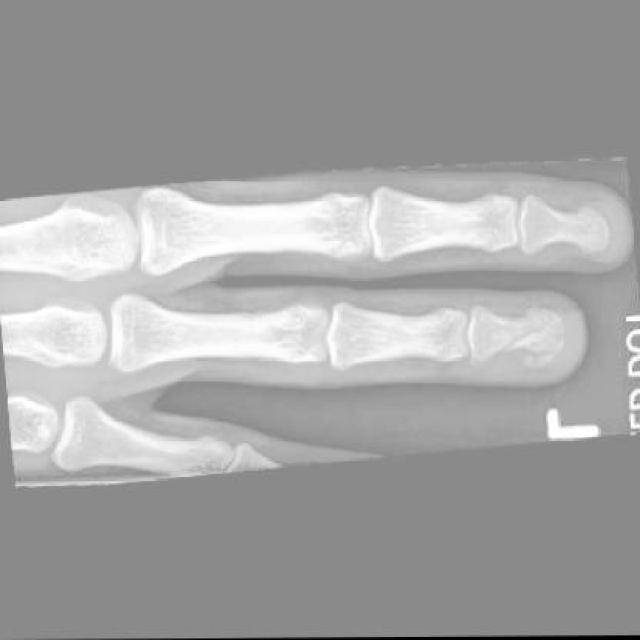Fracture: (494, 308, 577, 381)
